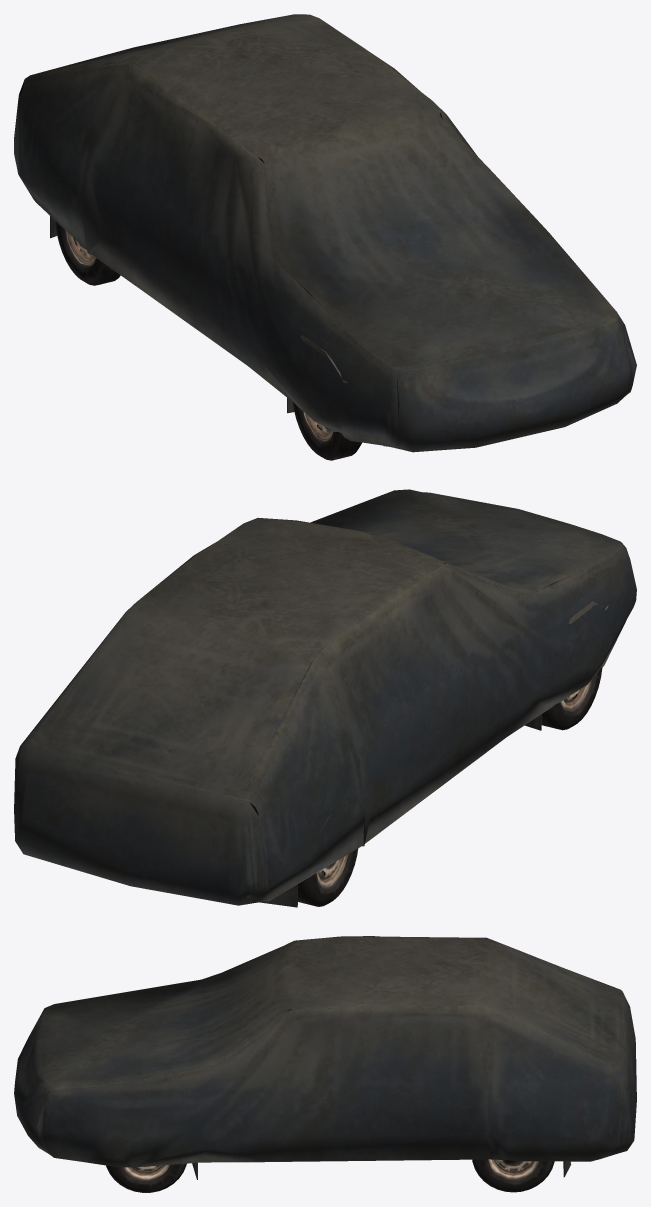
File: covered_car.glb
The picture shows the model from 3 angles, top to bottom: view 1: azimuth 30°, elevation 25°; view 2: azimuth 150°, elevation 25°; view 3: azimuth 270°, elevation 25°; orthographic projection. The views are drawn at different scales.
Parts seen in each view (by area): view 1: covered_car, covered_car_wheel_03, covered_car_wheel_02; view 2: covered_car, covered_car_wheel_03, covered_car_wheel_02; view 3: covered_car, covered_car_wheel_04, covered_car_wheel_01.
Boxes of the visible parts, left/top/right/bottom form: covered_car: left=14, top=14, right=636, bottom=452; covered_car_wheel_03: left=55, top=221, right=120, bottom=285; covered_car_wheel_02: left=292, top=402, right=361, bottom=460; covered_car: left=14, top=489, right=636, bottom=907; covered_car_wheel_03: left=298, top=848, right=358, bottom=906; covered_car_wheel_02: left=541, top=666, right=602, bottom=730; covered_car: left=14, top=936, right=636, bottom=1179; covered_car_wheel_04: left=472, top=1159, right=554, bottom=1192; covered_car_wheel_01: left=106, top=1163, right=186, bottom=1192.
Size of the model in its own units: 1.79 by 1.41 by 4.38.
Materials: 1 (1 with a texture image).
